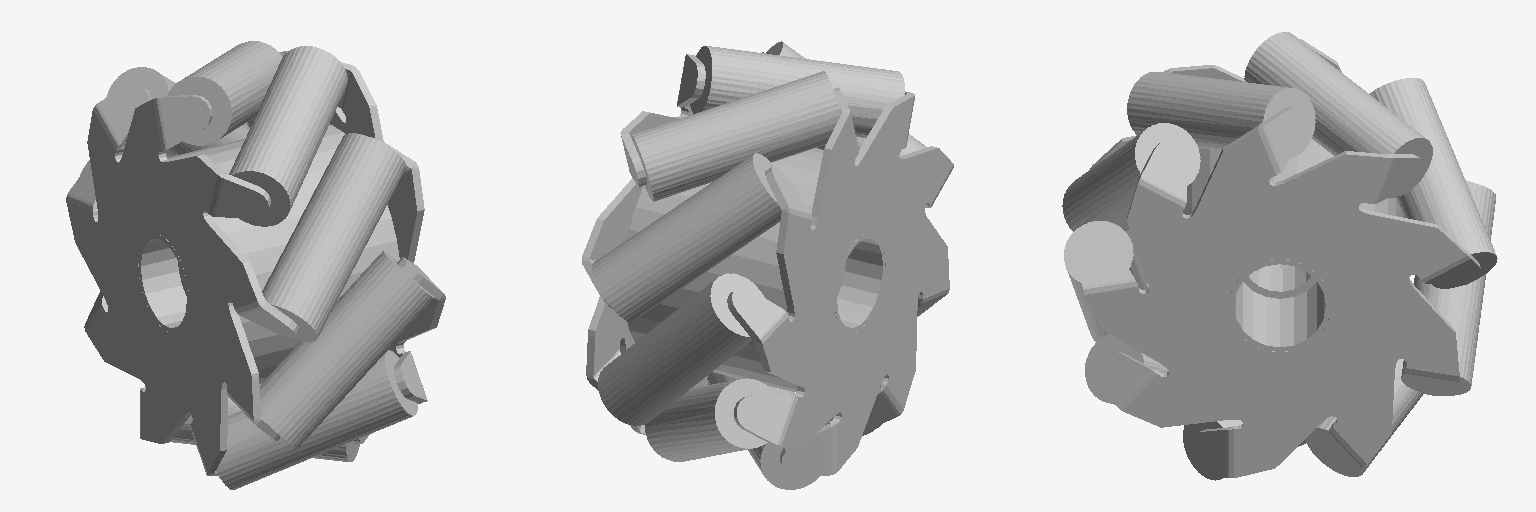
Rendered from mecanum_a.obj.
3 views of the same model, side by side, from view 1: azimuth 30°, elevation 25°; view 2: azimuth 150°, elevation 25°; view 3: azimuth 270°, elevation 25° (orthographic).
Parts seen in each view (by area): view 1: 100mm_Aluminum_Mecanum_wheel_(R)_v5; view 2: 100mm_Aluminum_Mecanum_wheel_(R)_v5; view 3: 100mm_Aluminum_Mecanum_wheel_(R)_v5.
Boxes of the visible parts, x1,y1,x2,y2 form: 100mm_Aluminum_Mecanum_wheel_(R)_v5: [66, 41, 445, 489]; 100mm_Aluminum_Mecanum_wheel_(R)_v5: [582, 41, 953, 489]; 100mm_Aluminum_Mecanum_wheel_(R)_v5: [1062, 32, 1497, 480].
Bounding box in the file's own units: 0.05 × 0.1009 × 0.1023.